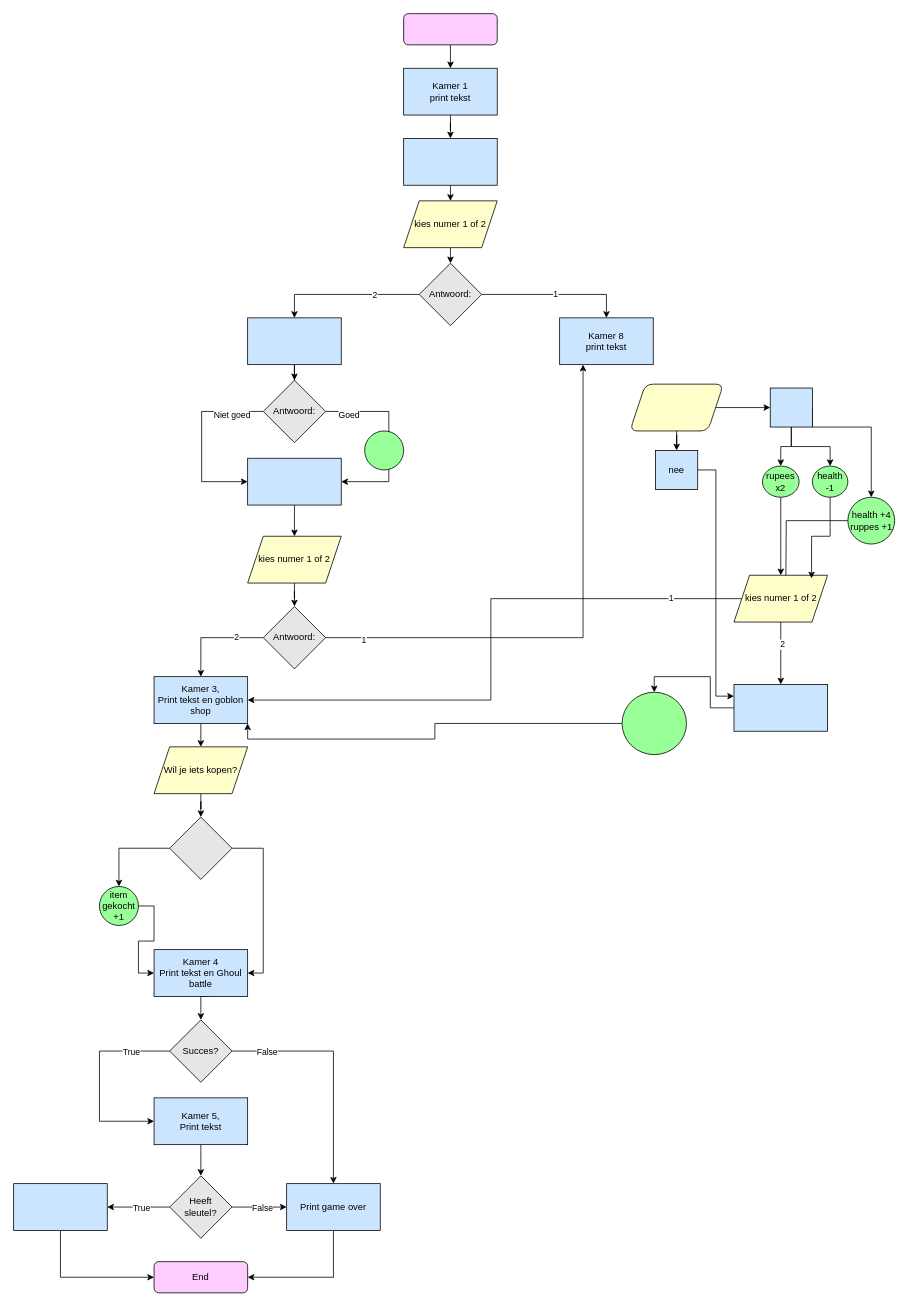
The diagram is 909 pixels wide and 1307 high, and some of its shapes have lost their labels. Each missing label, with the centre of its shape:
+1 Rupee: the point at 384,450
Antwoord?: the point at 200,847
ja: the point at 790,407
Kamer 2 print tekst en calculator: the point at 294,341
Kamer 6, Zombie battle: the point at 294,481
Kamer 7, print tekst en random kans om voor rupee: the point at 450,161
Kamer 9 print tekst en calculator: the point at 780,707
krijg een random extra defence of attack: the point at 653,723
Print win: the point at 60,1206
Start: the point at 450,29
wil jegoken?: the point at 676,407
